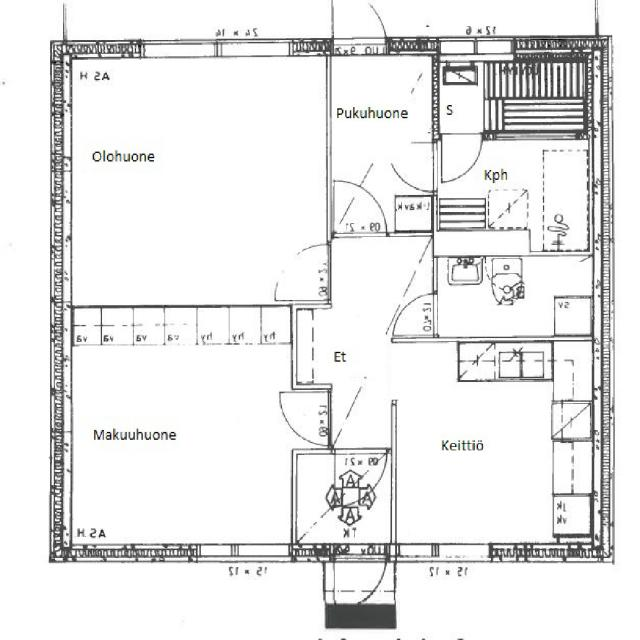door: (334, 543, 387, 618), (273, 244, 331, 300), (334, 449, 386, 509), (334, 176, 386, 236), (274, 391, 331, 445), (333, 0, 386, 58), (387, 142, 438, 191), (441, 132, 482, 183), (393, 294, 438, 336)
